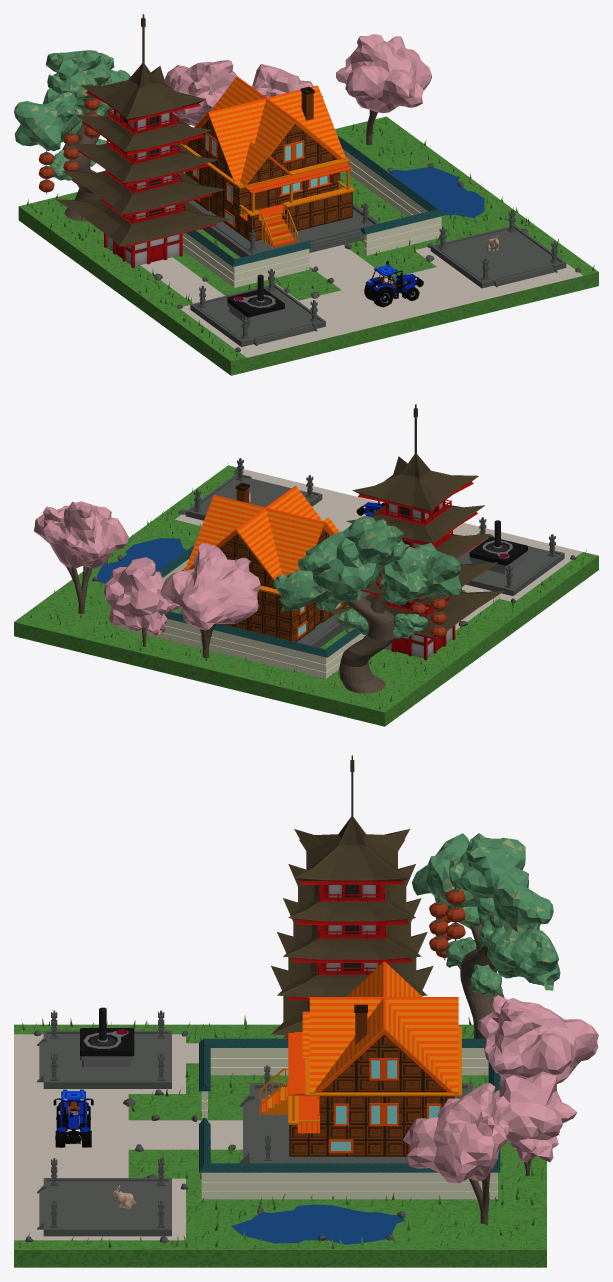
3 renders of one model, top to bottom at view 1: azimuth 30°, elevation 25°; view 2: azimuth 150°, elevation 25°; view 3: azimuth 270°, elevation 25°, orthographic. The views are drawn at different scales.
Parts seen in each view (by area): view 1: Cube.005, Cube, VEHICLES_TRACTOR, OBJRANDOM_JOYSTICK; view 2: Cube.005, Cube, OBJRANDOM_JOYSTICK; view 3: Cube.005, Cube, OBJRANDOM_JOYSTICK, VEHICLES_TRACTOR.
Boxes of the visible parts, box(x1,y1,x2,y2) form: Cube.005: box(14, 14, 598, 375); Cube: box(179, 76, 355, 248); VEHICLES_TRACTOR: box(364, 260, 423, 307); OBJRANDOM_JOYSTICK: box(227, 274, 284, 325); Cube.005: box(14, 404, 598, 726); Cube: box(181, 482, 347, 641); OBJRANDOM_JOYSTICK: box(469, 520, 527, 574); Cube.005: box(14, 755, 598, 1267); Cube: box(259, 961, 461, 1156); OBJRANDOM_JOYSTICK: box(80, 1007, 134, 1066); VEHICLES_TRACTOR: box(53, 1089, 93, 1147).
Size of the model in its own units: 4528 by 2640 by 4389.
Materials: 41 (7 with a texture image).
